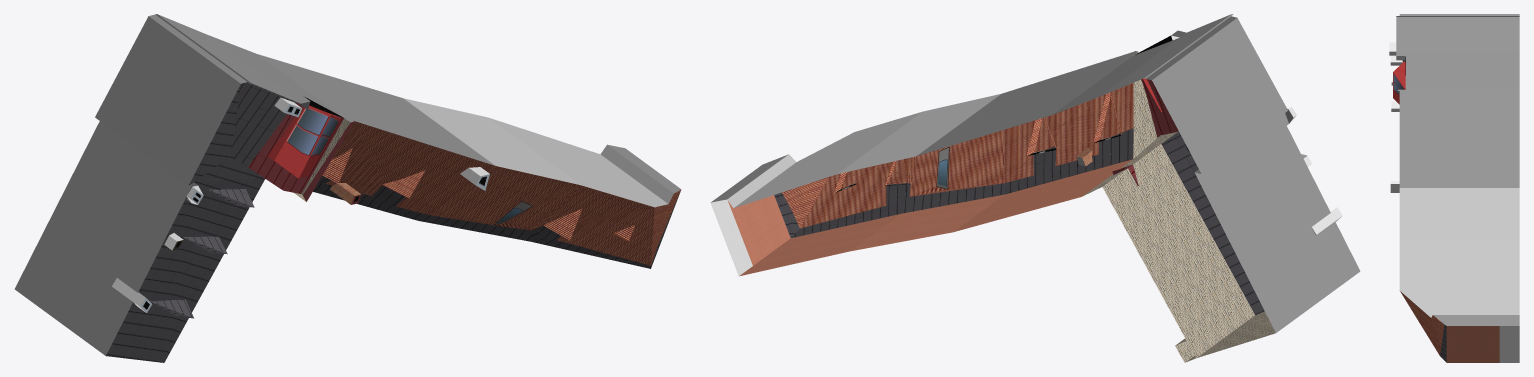
The model's file is Pikk_41_2-origo.obj.
3 renders of one model, left to right at view 1: azimuth 30°, elevation 25°; view 2: azimuth 150°, elevation 25°; view 3: azimuth 270°, elevation 25°, orthographic. The views are drawn at different scales.
Parts seen in each view (by area): view 1: Pikk_41_2; view 2: Pikk_41_2; view 3: Pikk_41_2.
Part boxes in pixels (x1,y1,x2,y2): Pikk_41_2: [14, 14, 681, 362]; Pikk_41_2: [710, 14, 1360, 362]; Pikk_41_2: [1389, 14, 1519, 362].
Bounding box in the file's own units: 39.88 × 20 × 11.34.
